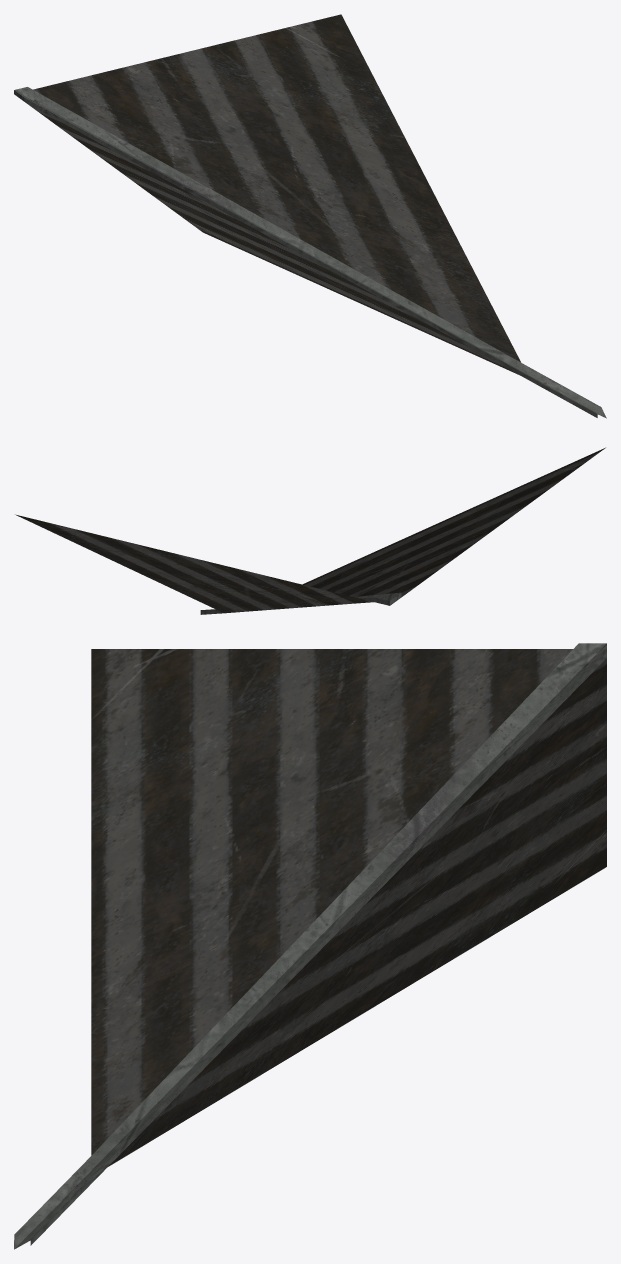
Rendered from roof_corner01.fbx.
The picture shows the model from 3 angles, top to bottom: view 1: azimuth 30°, elevation 25°; view 2: azimuth 150°, elevation 25°; view 3: azimuth 270°, elevation 25°; orthographic projection. The views are drawn at different scales.
Parts seen in each view (by area): view 1: roof_corner01; view 2: roof_corner01; view 3: roof_corner01.
Boxes of the visible parts, x1,y1,x2,y2 form: roof_corner01: (14,14,606,418); roof_corner01: (15,447,605,614); roof_corner01: (14,643,606,1249).
Size of the model in its own units: 229 by 152 by 229.
